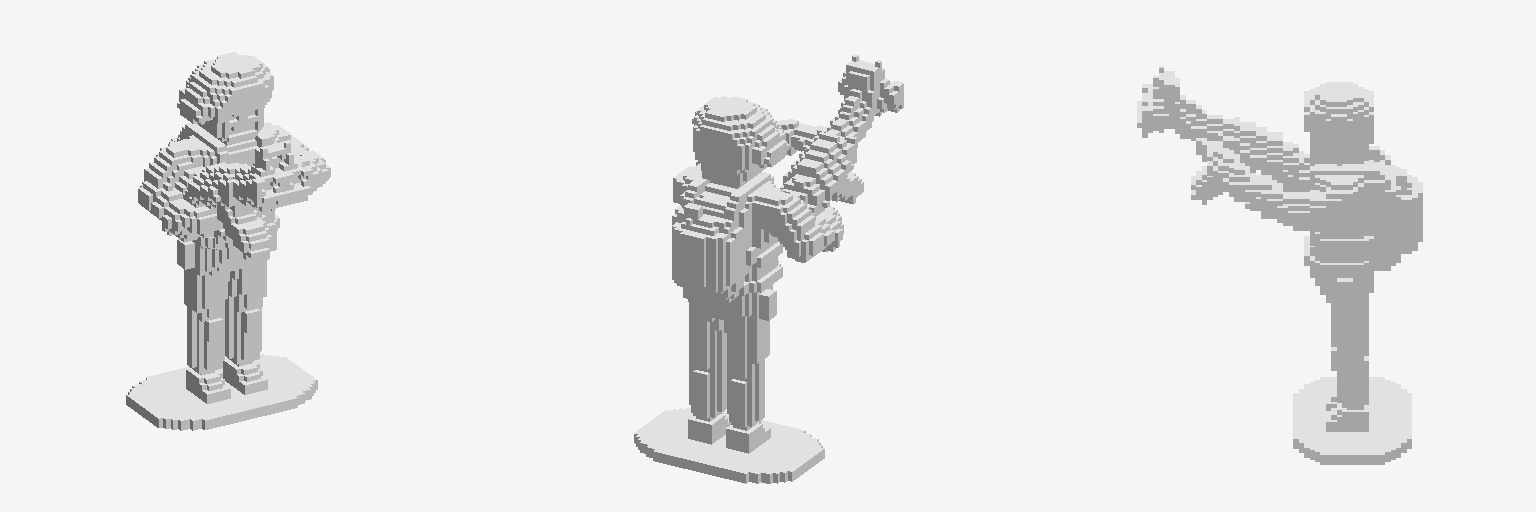
The model's file is gun_up_soldier_LVL3_4.0.obj.
3 views of the same model, side by side, from view 1: azimuth 30°, elevation 25°; view 2: azimuth 150°, elevation 25°; view 3: azimuth 270°, elevation 25° (orthographic).
Parts seen in each view (by area): view 1: object 1; view 2: object 1; view 3: object 1.
Part boxes in pixels (x1,y1,x2,y2): object 1: (126, 52, 330, 430); object 1: (634, 54, 903, 483); object 1: (1137, 66, 1422, 464).
Bounding box in the file's own units: 3.5 × 6.9 × 5.3.